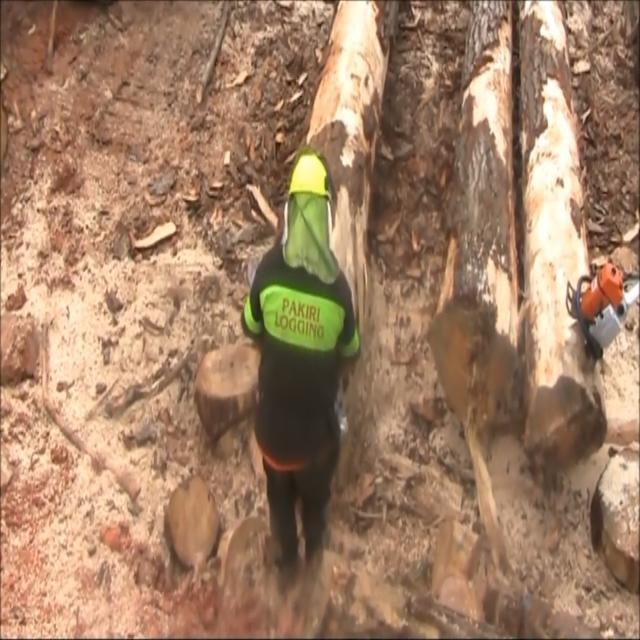Chainsaw: (561, 234, 640, 370)
